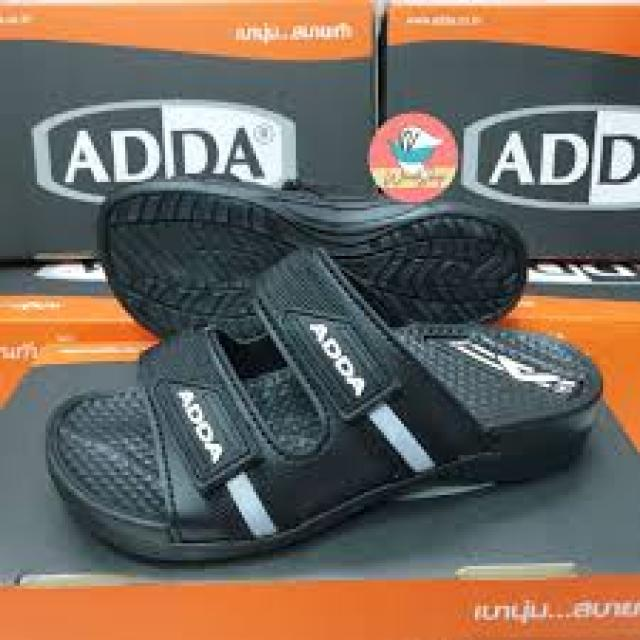shoe: (43, 177, 605, 549), (44, 258, 599, 545)
